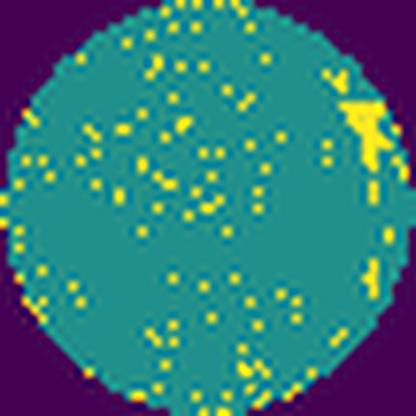Loc: (335, 100, 397, 174)
